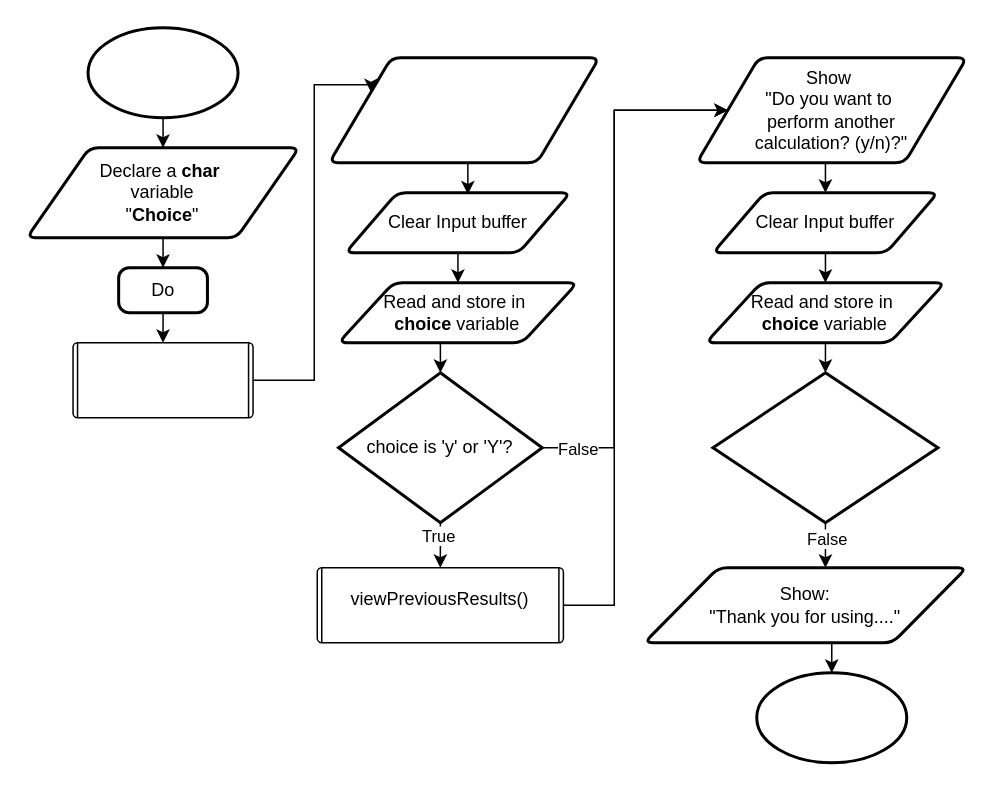
Image size: 995x789. Some labels were removed from this diagram. Each missing label, with the centre of its shape:
End: point (831, 717)
Show "Do you want to see previous calculation? (y/n)?": point (463, 110)
Start: point (162, 72)
userParameters() from zener.c: point (162, 379)
While choice == 'y' or 'Y'?: point (825, 447)
